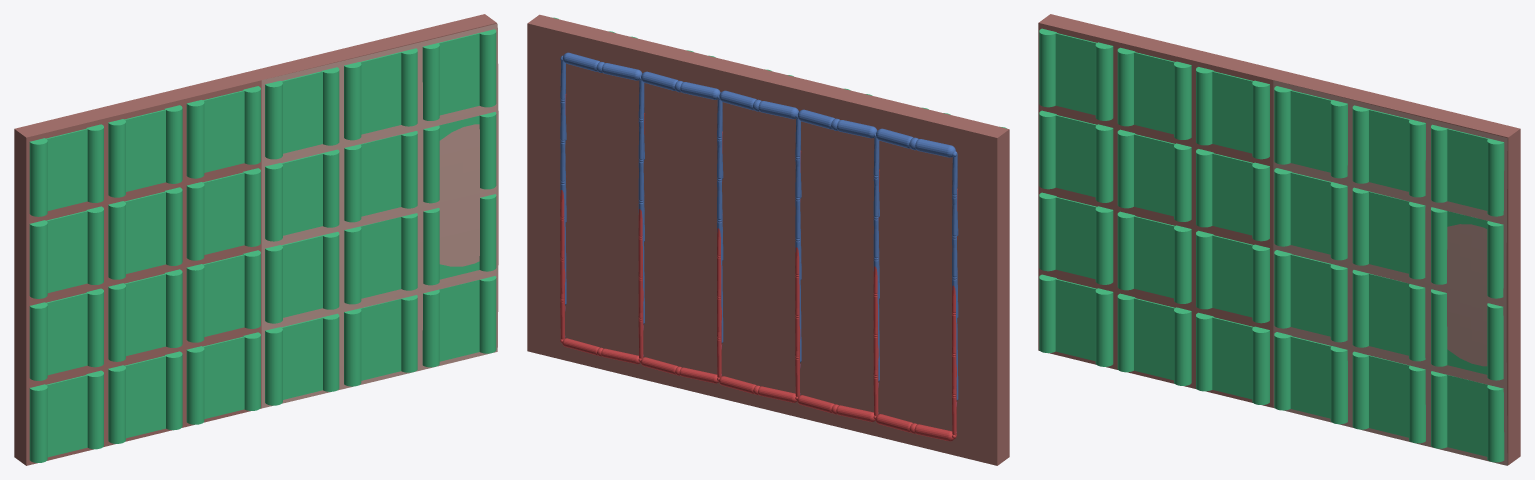
The model's file is dranmar_perfused_tissue_healthy.glb.
3 views of the same model, side by side, from view 1: azimuth 30°, elevation 25°; view 2: azimuth 150°, elevation 25°; view 3: azimuth 330°, elevation 25° (orthographic).
Parts seen in each view (by area): view 1: TissueBulk, TissueSurface, Overlay_11, Overlay_10, Overlay_9, Overlay_4, Overlay_7, Overlay_1, Overlay_5, Overlay_6, Overlay_8, Overlay_0 (+14 smaller); view 2: TissueBulk, VT0, VT1, VT2, VT3, VT4, AT0, AT1, AT2, AT3, AT4, VB05 (+5 smaller); view 3: TissueBulk, TissueSurface, Overlay_4, Overlay_5, Overlay_1, Overlay_2, Overlay_3, Overlay_6, Overlay_0, Overlay_7, Overlay_10, Overlay_11 (+14 smaller).
Part boxes in pixels (x1,y1,x2,y2): TissueBulk: (14, 14, 496, 465); TissueSurface: (261, 23, 498, 408); Overlay_11: (186, 86, 260, 178); Overlay_10: (186, 168, 260, 260); Overlay_9: (186, 250, 260, 342); Overlay_4: (108, 351, 182, 443); Overlay_7: (108, 105, 182, 197); Overlay_1: (29, 288, 103, 380); Overlay_5: (108, 269, 182, 361); Overlay_6: (108, 187, 182, 279); Overlay_8: (186, 332, 260, 424); Overlay_0: (29, 370, 103, 462); TissueBulk: (527, 14, 1009, 465); VT0: (876, 128, 955, 157); VT1: (797, 109, 877, 138); VT2: (719, 90, 798, 119); VT3: (641, 71, 720, 99); VT4: (562, 52, 642, 80); AT0: (875, 414, 953, 441); AT1: (797, 395, 875, 422); AT2: (719, 376, 796, 402); AT3: (640, 357, 718, 383); AT4: (562, 338, 640, 364); VB05: (560, 63, 566, 304); TissueBulk: (1038, 14, 1520, 465); TissueSurface: (1273, 80, 1507, 465); Overlay_4: (1117, 293, 1191, 385); Overlay_5: (1117, 211, 1191, 303); Overlay_1: (1039, 192, 1113, 284); Overlay_2: (1039, 110, 1113, 202); Overlay_3: (1039, 28, 1113, 120); Overlay_6: (1117, 129, 1191, 221); Overlay_0: (1039, 274, 1113, 366); Overlay_7: (1117, 47, 1191, 139); Overlay_10: (1196, 149, 1269, 241); Overlay_11: (1196, 67, 1269, 159).
Bounding box in the file's own units: 0.18 × 0.12 × 0.0168.
